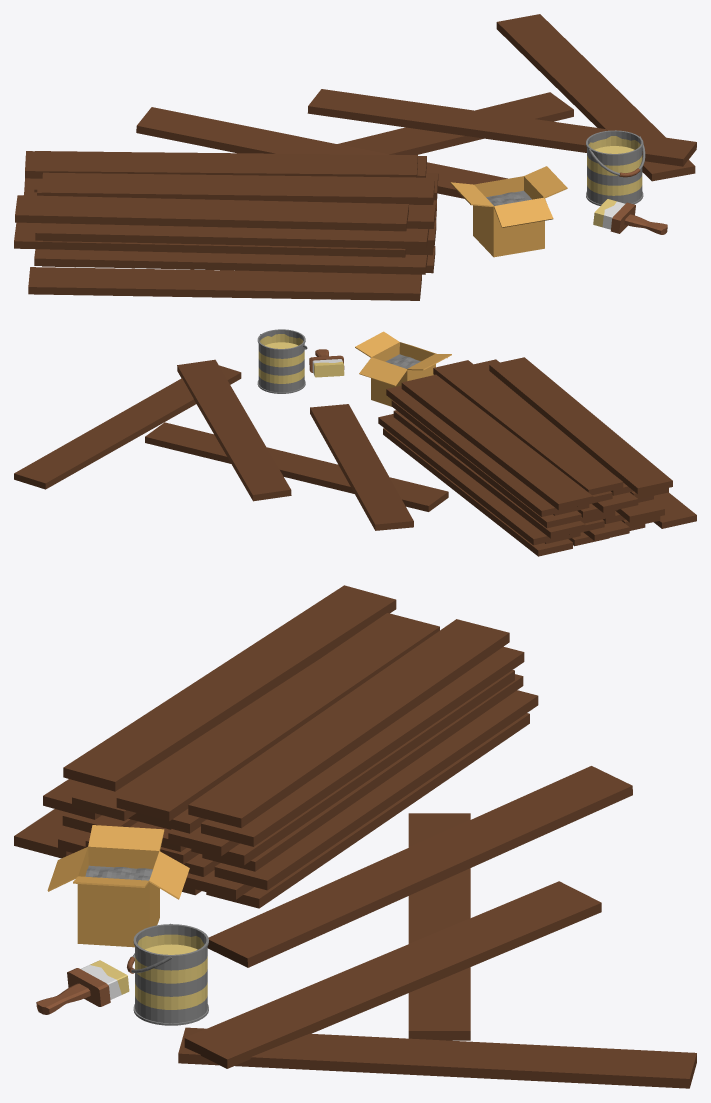
Rendered from boatbbb.fbx.
3 views of the same model, one above another, from view 1: azimuth 30°, elevation 25°; view 2: azimuth 150°, elevation 25°; view 3: azimuth 270°, elevation 25° (orthographic). The views are drawn at different scales.
Parts seen in each view (by area): view 1: Cube.027, Cube.028, Cube.026, Cube.025, Cube.002, Cube.003, Cube.021, Cube.009, Cube.001, Cube.029, Cube.015, Cube (+3 smaller); view 2: Cube.025, Cube.027, Cube.026, Cube.002, Cube.003, Cube.001, Cube, Cube.029, Cube.012, Cube.024, Cylinder, Cube.013 (+8 smaller); view 3: Cube.001, Cube.002, Cube.027, Cube.025, Cube.003, Cube.026, Cube.029, Cube.012, Cube.024, Cube, Cylinder, Cube.006 (+10 smaller).
Boxes of the visible parts, left/top/right/bottom form: Cube.027: left=15, top=195, right=408, bottom=231; Cube.028: left=28, top=267, right=421, bottom=300; Cube.026: left=41, top=172, right=434, bottom=204; Cube.025: left=25, top=151, right=417, bottom=178; Cube.002: left=307, top=89, right=696, bottom=166; Cube.003: left=496, top=14, right=695, bottom=181; Cube.021: left=35, top=223, right=429, bottom=249; Cube.009: left=34, top=249, right=427, bottom=274; Cube.001: left=136, top=107, right=507, bottom=198; Cube.029: left=450, top=166, right=567, bottom=257; Cube.015: left=14, top=222, right=406, bottom=257; Cube: left=337, top=92, right=573, bottom=154; Cube.025: left=401, top=374, right=593, bottom=510; Cube.027: left=489, top=357, right=672, bottom=494; Cube.026: left=433, top=360, right=623, bottom=495; Cube.002: left=177, top=359, right=291, bottom=501; Cube.003: left=14, top=365, right=241, bottom=489; Cube.001: left=310, top=404, right=413, bottom=530; Cube: left=145, top=422, right=448, bottom=511; Cube.029: left=355, top=331, right=451, bottom=406; Cube.012: left=378, top=414, right=568, bottom=545; Cube.024: left=386, top=385, right=576, bottom=516; Cylinder: left=257, top=329, right=305, bottom=393; Cube.013: left=393, top=410, right=585, bottom=538; Cube.001: left=207, top=766, right=632, bottom=967; Cube.002: left=184, top=881, right=601, bottom=1068; Cube.027: left=63, top=585, right=396, bottom=791; Cube.025: left=188, top=619, right=509, bottom=828; Cube.003: left=178, top=1027, right=696, bottom=1088; Cube.026: left=116, top=613, right=439, bottom=821; Cube.029: left=47, top=825, right=189, bottom=947; Cube.012: left=214, top=690, right=538, bottom=890; Cube.024: left=201, top=646, right=524, bottom=846; Cube: left=408, top=813, right=470, bottom=1040; Cylinder: left=133, top=924, right=208, bottom=1025; Cube.006: left=206, top=713, right=529, bottom=908.
Size of the model in its own units: 2772 by 258 by 1878.
